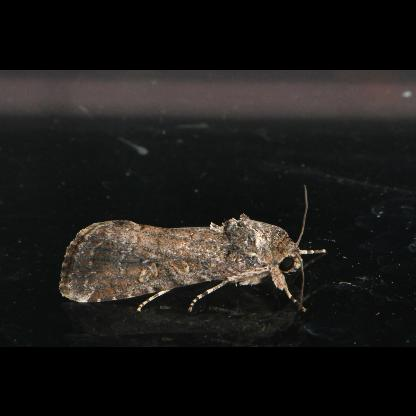Fall Armyworm Moth: (57, 182, 329, 314)
